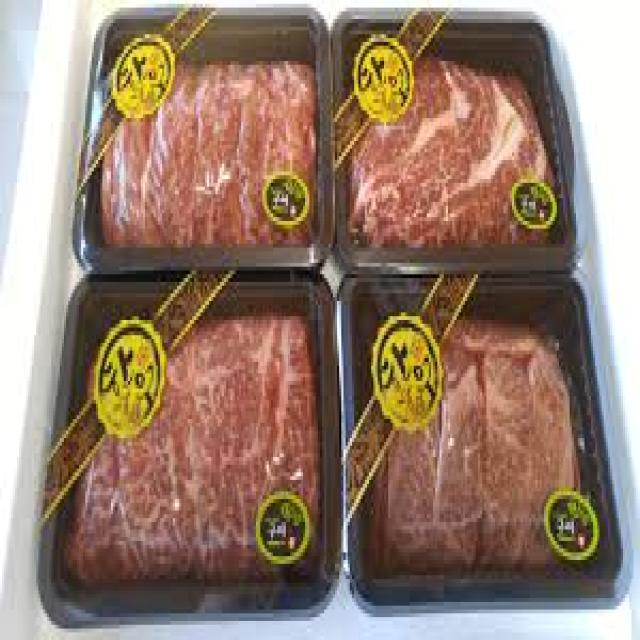pork: (79, 19, 585, 586)
